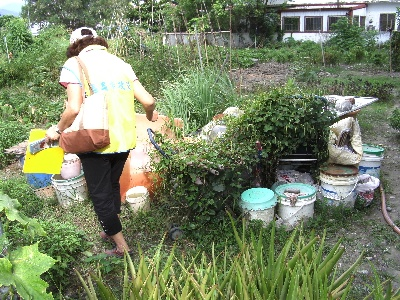bucket: (49, 166, 92, 211), (319, 174, 359, 215), (277, 196, 317, 232), (126, 185, 152, 216)
plate: (239, 185, 277, 211), (274, 182, 317, 199), (360, 142, 384, 156)
